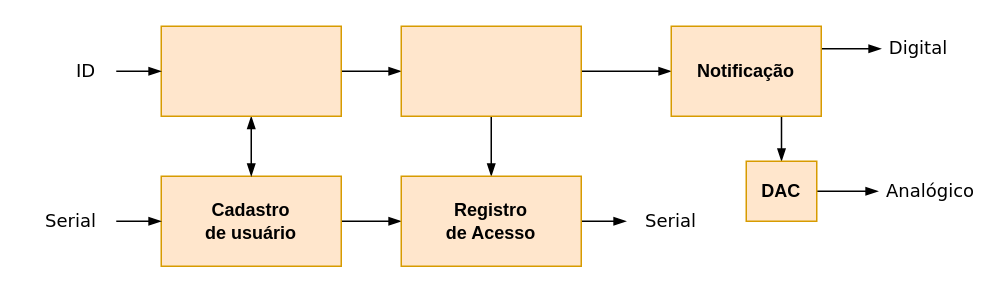
Some shapes in this 1008 by 293 pixel diagram are drawn without their labels. Each missing label, with the box of its shape:
Liberação de acesso: (400, 25, 581, 116)
Verificação de usuário: (160, 25, 341, 116)
